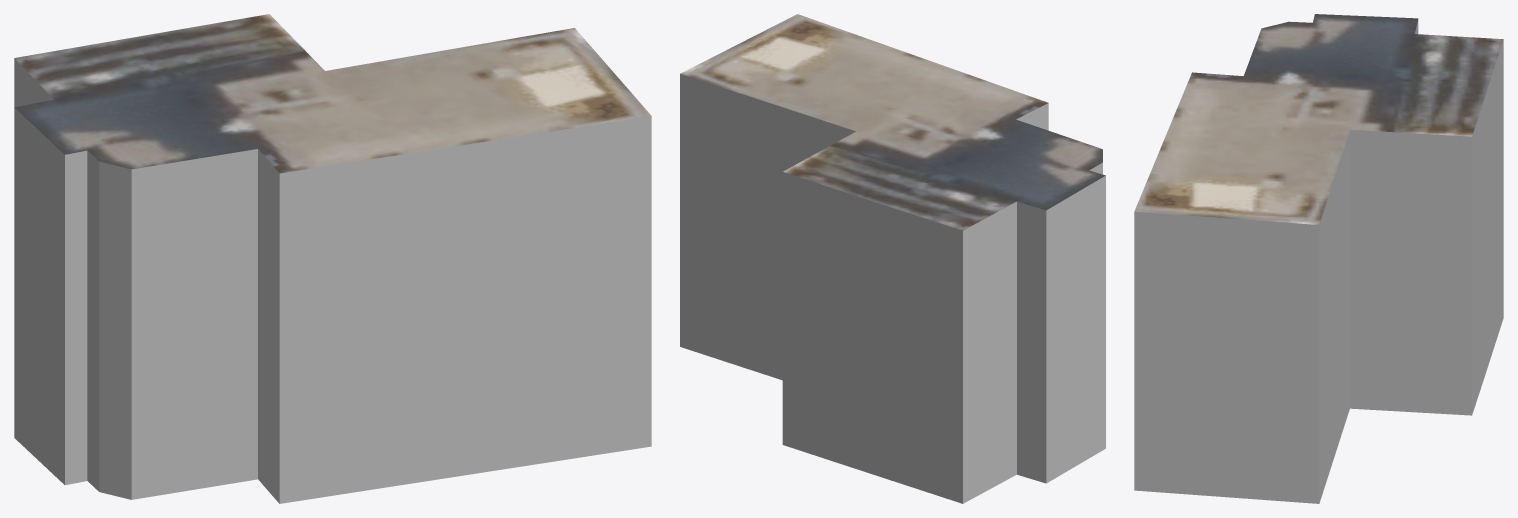
File: DEBW_0010007TxgS.gltf
The picture shows the model from 3 angles, left to right: view 1: azimuth 30°, elevation 25°; view 2: azimuth 150°, elevation 25°; view 3: azimuth 270°, elevation 25°; orthographic projection. The views are drawn at different scales.
Parts seen in each view (by area): view 1: Z_UP; view 2: Z_UP; view 3: Z_UP.
Boxes of the visible parts, box(x1,y1,x2,y2) form: Z_UP: box(14, 14, 651, 503); Z_UP: box(680, 14, 1105, 503); Z_UP: box(1134, 14, 1503, 503).
Bounding box in the file's own units: 26.91 × 16.58 × 19.9.
Materials: 2 (1 with a texture image).
